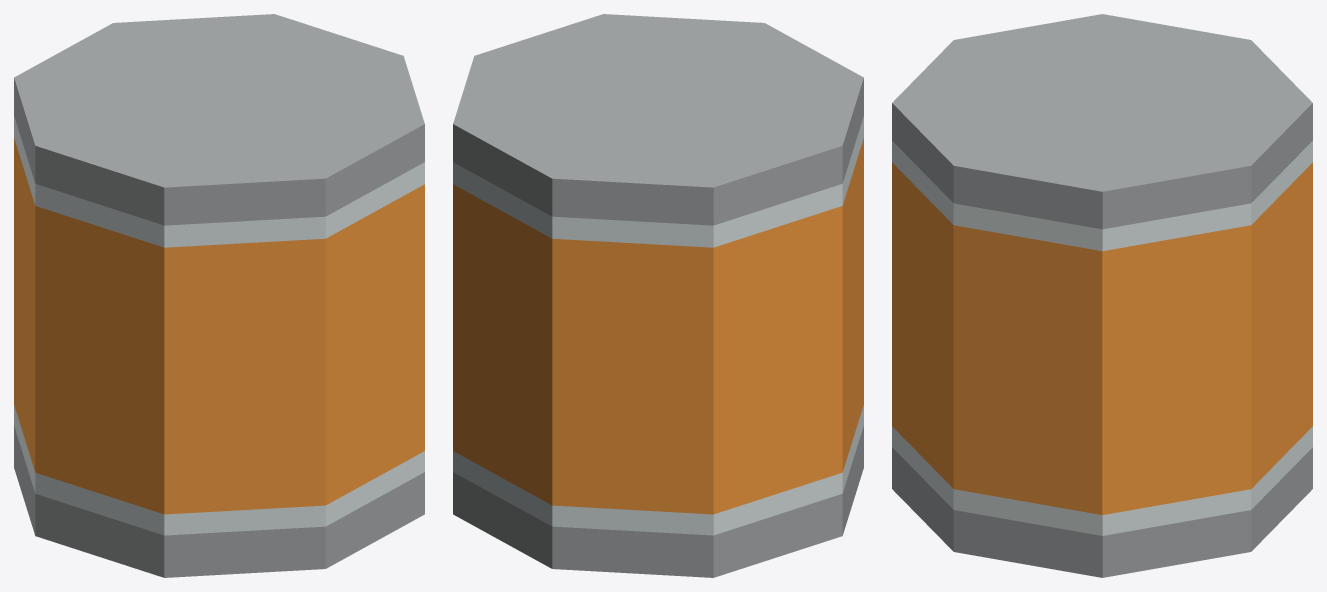
The model's file is can2.fbx.
3 views of the same model, side by side, from view 1: azimuth 30°, elevation 25°; view 2: azimuth 150°, elevation 25°; view 3: azimuth 270°, elevation 25° (orthographic).
Parts seen in each view (by area): view 1: can1; view 2: can1; view 3: can1.
Boxes of the visible parts, box(x1,y1,x2,y2) form: can1: box(14, 14, 424, 577); can1: box(453, 14, 863, 577); can1: box(892, 14, 1312, 577).
Size of the model in its own units: 0.7012 by 0.7102 by 0.7012.
Materials: 1 (1 with a texture image).
